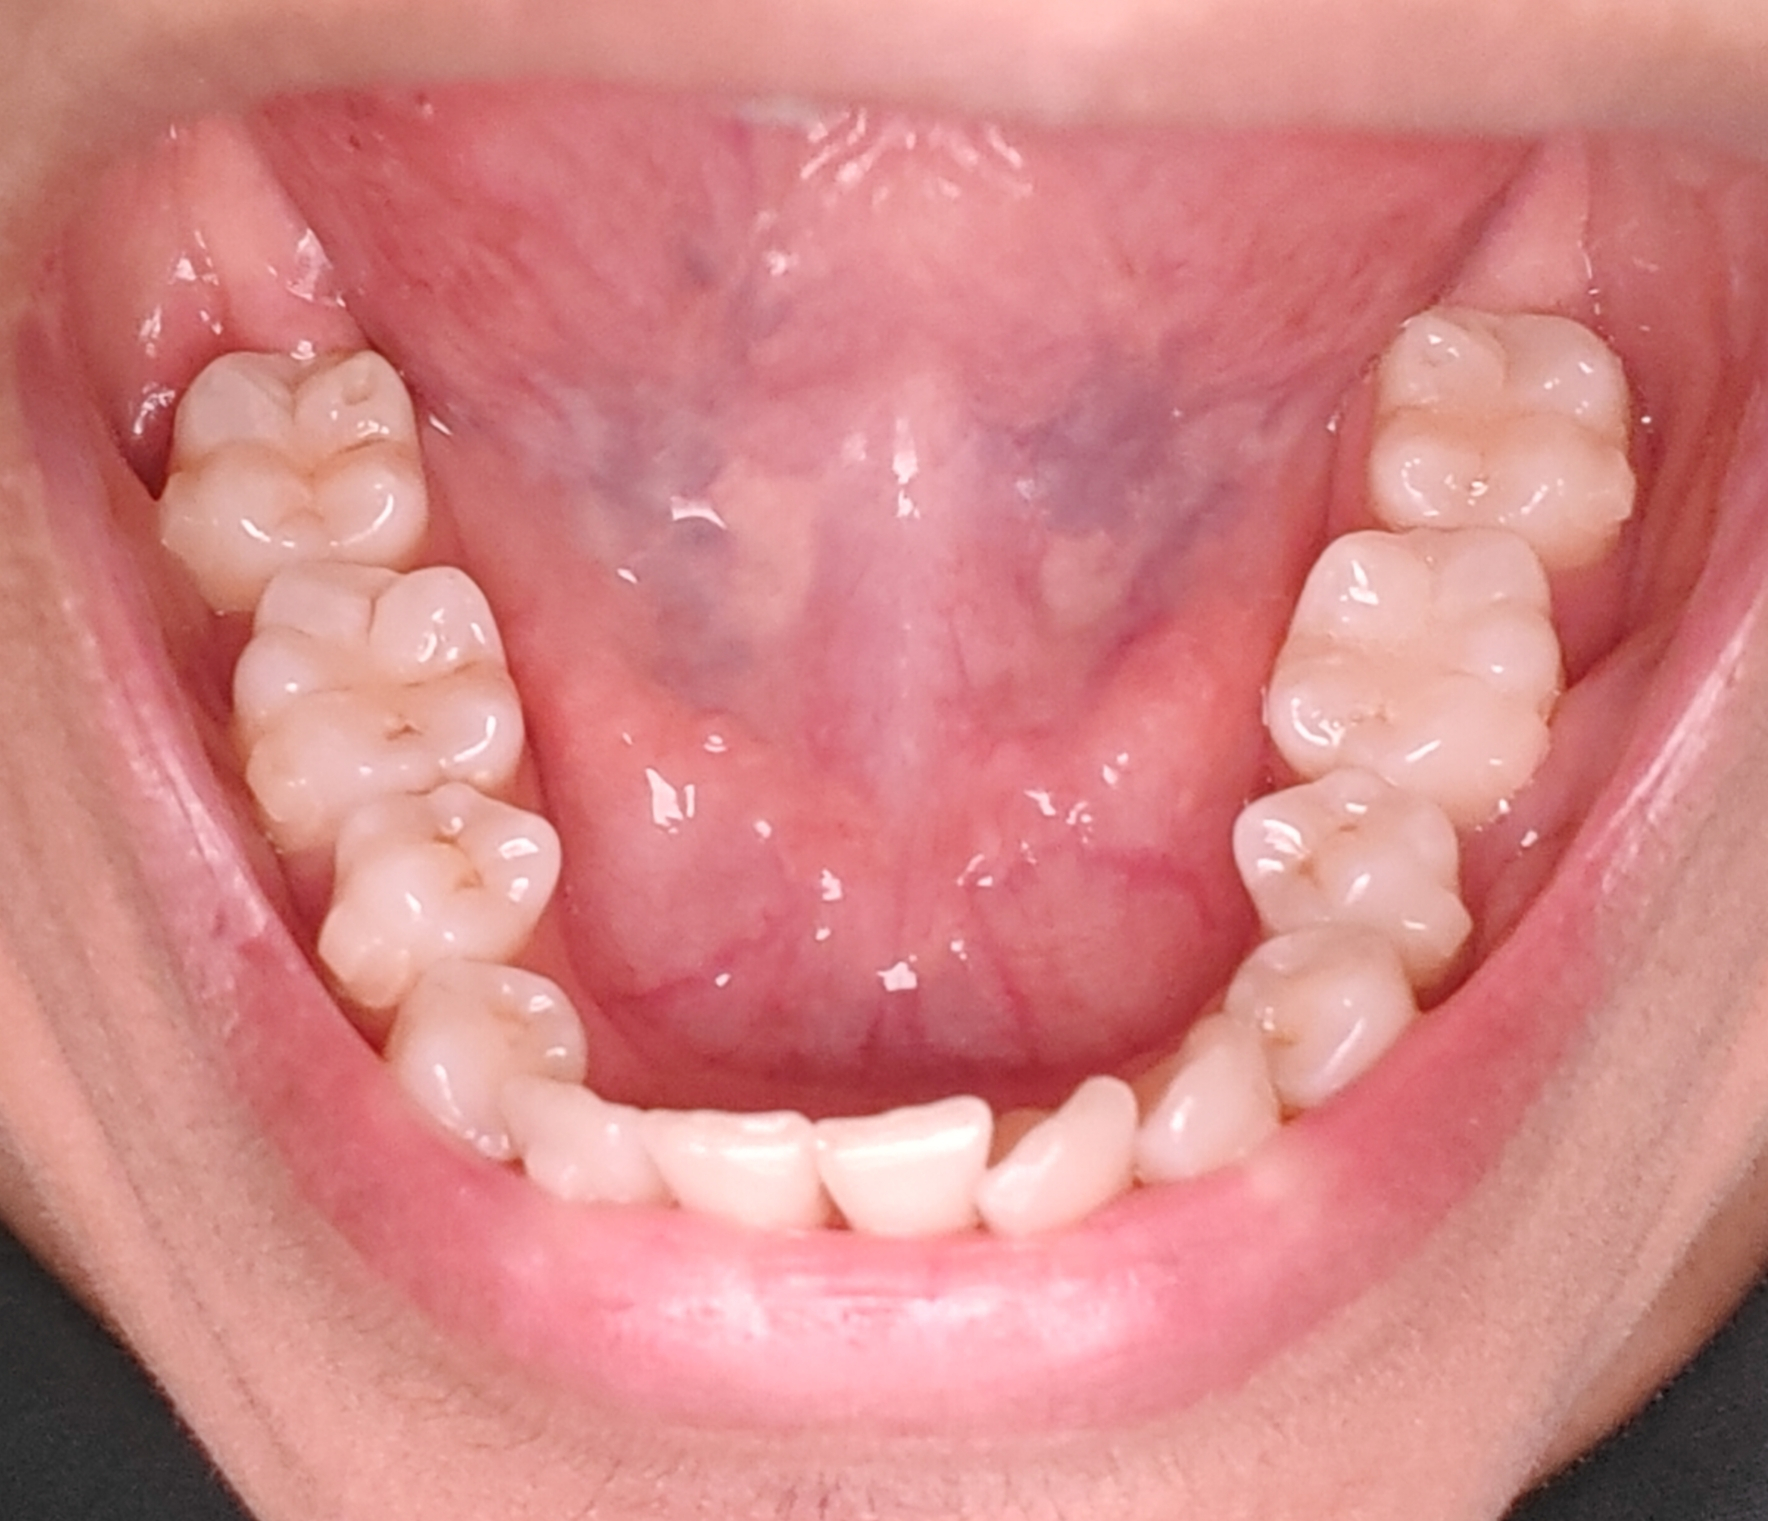teeth: (238, 564, 511, 836), (1291, 529, 1542, 822), (1404, 317, 1633, 564), (319, 786, 570, 1007), (170, 349, 407, 544), (1236, 773, 1469, 965), (398, 965, 588, 1141), (1236, 921, 1416, 1091), (983, 1081, 1138, 1232), (812, 1096, 983, 1232), (1149, 1018, 1278, 1178), (655, 1112, 827, 1228), (511, 1096, 655, 1202)
